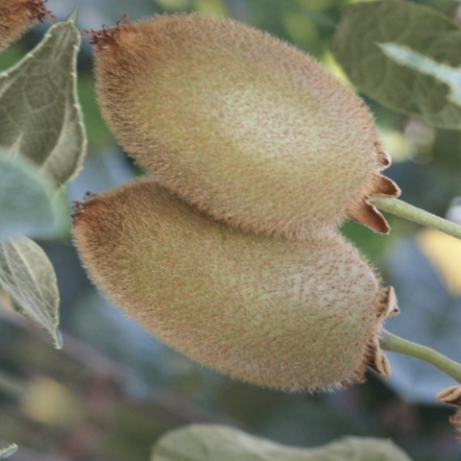kiwi: (32, 120, 429, 448), (42, 0, 449, 289)
